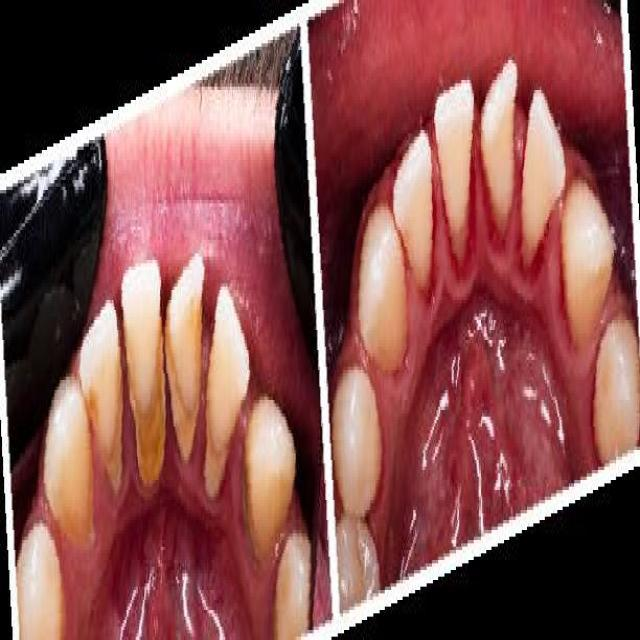calculus: (120, 262, 168, 498), (166, 268, 204, 468), (206, 290, 235, 510), (90, 314, 123, 503)
